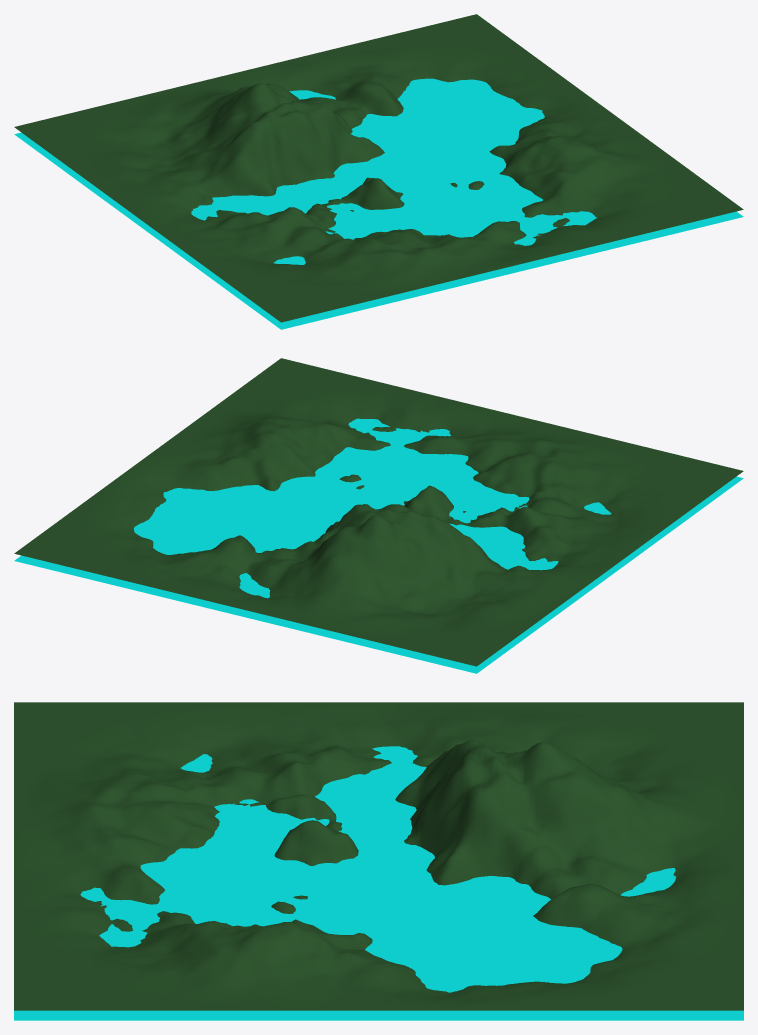
Rendered from WATERYhills.fbx.
3 renders of one model, top to bottom at view 1: azimuth 30°, elevation 25°; view 2: azimuth 150°, elevation 25°; view 3: azimuth 270°, elevation 25°, orthographic. The views are drawn at different scales.
Parts seen in each view (by area): view 1: Landscape.001, Landscape_plane; view 2: Landscape.001, Landscape_plane; view 3: Landscape.001, Landscape_plane.
Part boxes in pixels (left/top/right/bottom): Landscape.001: left=14, top=14, right=743, bottom=322; Landscape_plane: left=14, top=78, right=743, bottom=329; Landscape.001: left=14, top=358, right=743, bottom=666; Landscape_plane: left=14, top=418, right=743, bottom=673; Landscape.001: left=14, top=702, right=743, bottom=1010; Landscape_plane: left=14, top=746, right=743, bottom=1020.
Bounding box in the file's own units: 1600 × 262 × 1600.
